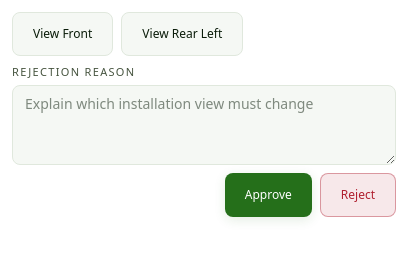
Scenario: InstallationReviewActions evidence viewer › reports a visible failure when the server returns a non-JSON failure
Click the button "View front" at (63, 34), box [12, 12, 113, 56]
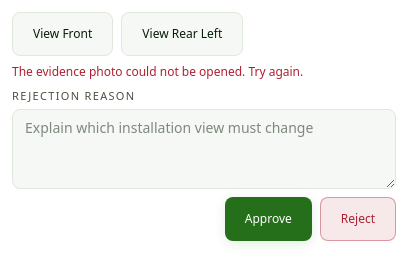
Expected: the message reads "The evidence photo could not be opened. Try again.", [12, 63, 303, 80]
